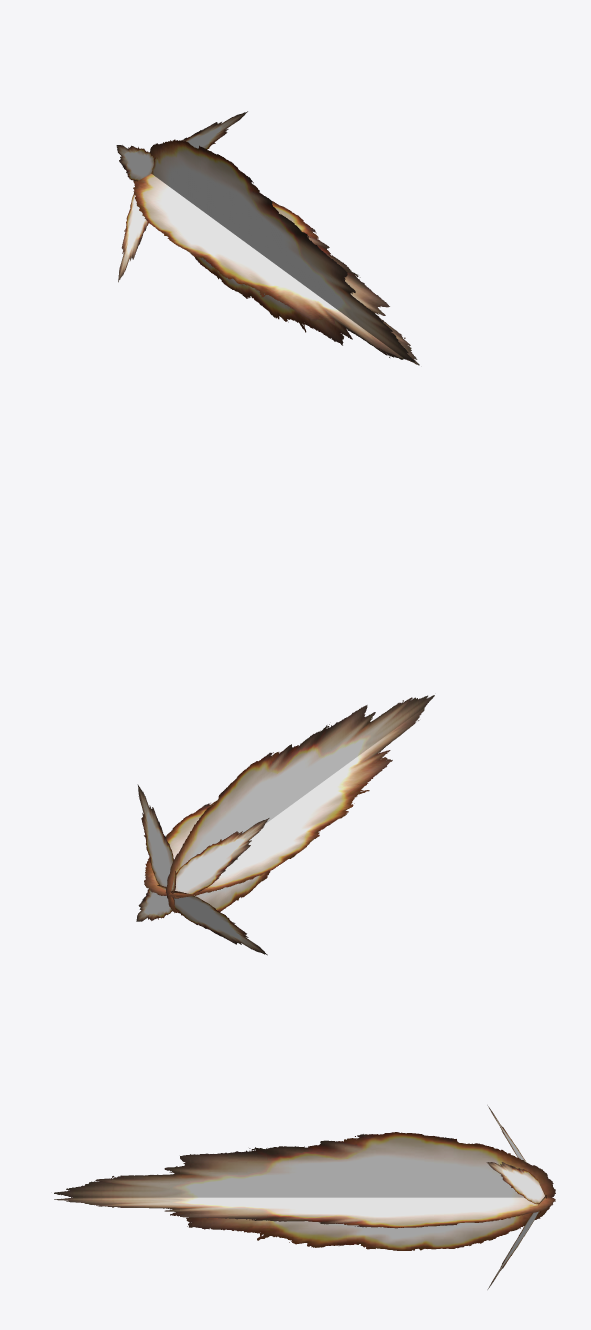
The model's file is muzzleFlash.fbx.
3 views of the same model, one above another, from view 1: azimuth 30°, elevation 25°; view 2: azimuth 150°, elevation 25°; view 3: azimuth 270°, elevation 25° (orthographic). The views are drawn at different scales.
Parts seen in each view (by area): view 1: polySurface6; view 2: polySurface6; view 3: polySurface6.
Part boxes in pixels (x1,y1,x2,y2): polySurface6: (116,111,419,365); polySurface6: (136,695,434,955); polySurface6: (54,1105,555,1289).
Bounding box in the file's own units: 42.4 × 42.4 × 84.8.
